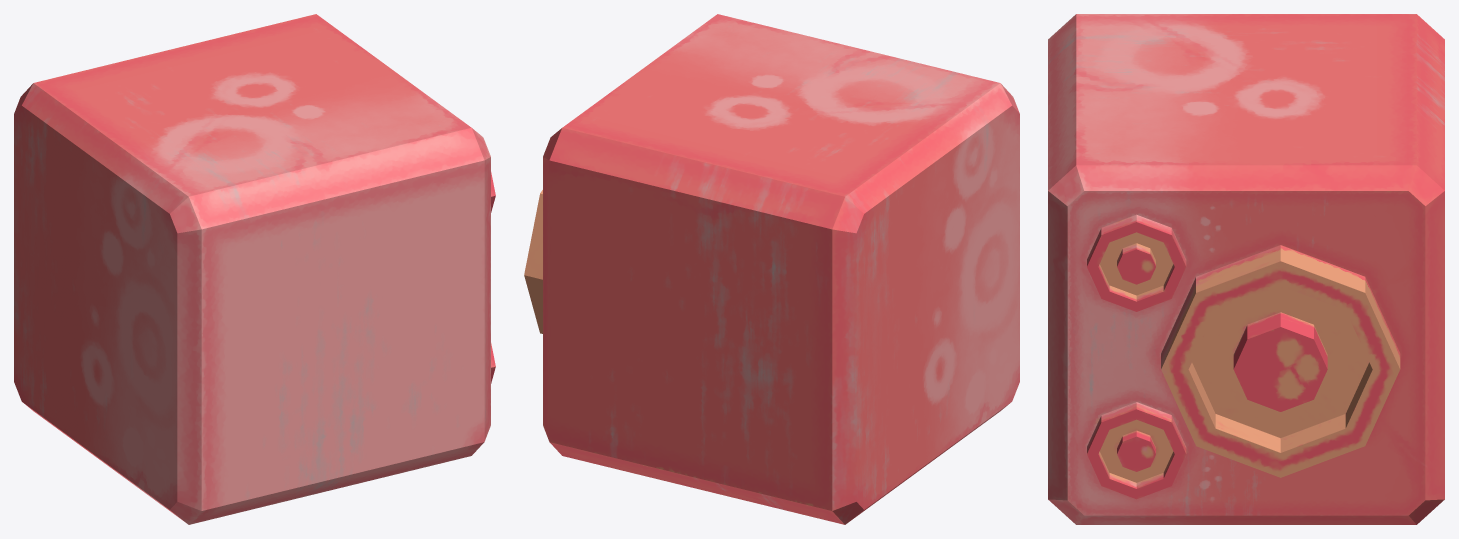
The model's file is worm_totem_head.fbx.
3 renders of one model, left to right at view 1: azimuth 30°, elevation 25°; view 2: azimuth 150°, elevation 25°; view 3: azimuth 270°, elevation 25°, orthographic. The views are drawn at different scales.
Parts seen in each view (by area): view 1: Cube.003; view 2: Cube.003; view 3: Cube.003.
Boxes of the visible parts, left/top/right/bottom form: Cube.003: left=14, top=14, right=495, bottom=524; Cube.003: left=524, top=14, right=1019, bottom=524; Cube.003: left=1048, top=14, right=1444, bottom=524.
Bounding box in the file's own units: 110 × 100 × 100.
1 material, 1 textured.
